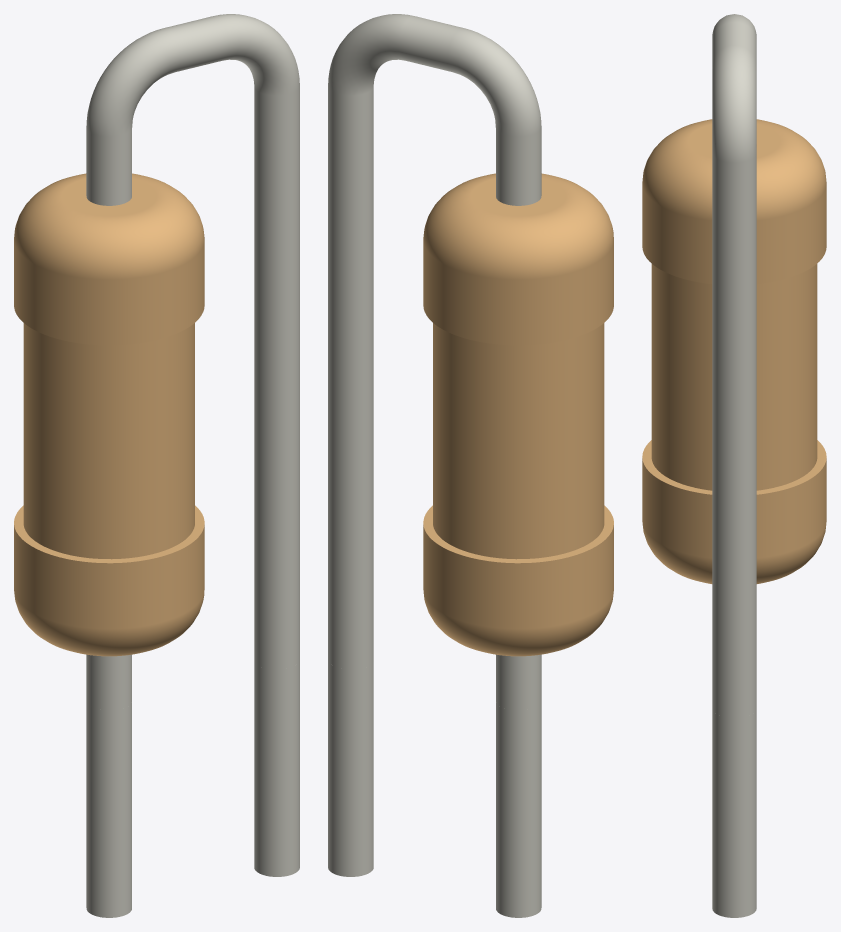
The model's file is r_axial_din0207_l6_3mm_d2_5mm_p2_54mm_vertical.glb.
3 views of the same model, side by side, from view 1: azimuth 30°, elevation 25°; view 2: azimuth 150°, elevation 25°; view 3: azimuth 270°, elevation 25° (orthographic). The views are drawn at different scales.
Parts seen in each view (by area): view 1: resistor, pin_1, pin_2; view 2: resistor, pin_1, pin_2; view 3: resistor, pin_2.
Part boxes in pixels (<box>): resistor: <box>14,14,299,710</box>; pin_1: <box>86,701,131,917</box>; pin_2: <box>254,661,299,876</box>; resistor: <box>328,14,613,710</box>; pin_1: <box>496,701,541,917</box>; pin_2: <box>328,661,373,876</box>; resistor: <box>642,14,826,717</box>; pin_2: <box>712,709,756,917</box>.
Bounding box in the file's own units: 0.00409 × 0.0125 × 0.0025.
